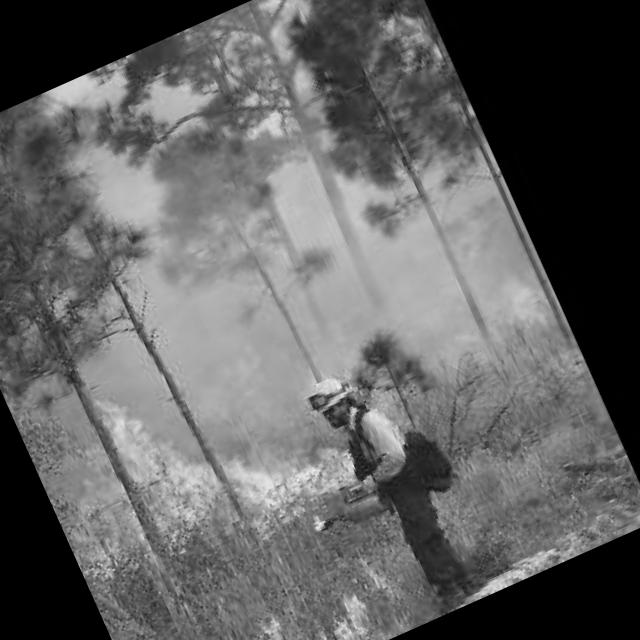fire: (36, 324, 363, 599), (227, 532, 418, 640), (428, 241, 553, 362)
